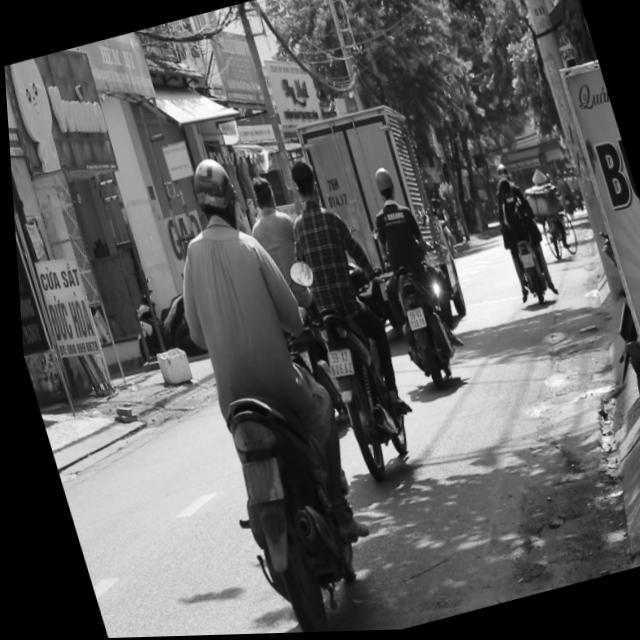helmet: (179, 152, 241, 234), (367, 166, 394, 203)
licenseplate: (129, 139, 394, 637), (259, 138, 425, 485), (345, 158, 467, 395)
motorcyclist: (282, 157, 320, 209), (243, 173, 276, 216)
nohelmet: (232, 458, 277, 504), (320, 347, 350, 380), (400, 308, 421, 332)
